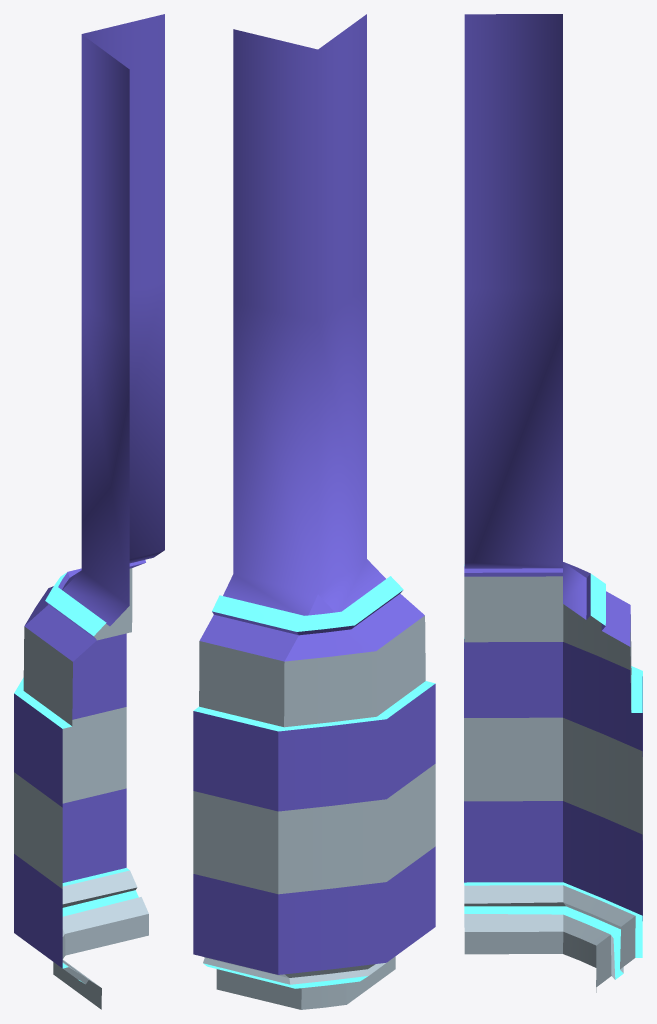
Rendered from 45_CornerWall_A_Tall.fbx.
The picture shows the model from 3 angles, left to right: view 1: azimuth 30°, elevation 25°; view 2: azimuth 150°, elevation 25°; view 3: azimuth 270°, elevation 25°; orthographic projection. The views are drawn at different scales.
Parts seen in each view (by area): view 1: 45_CornerWall_A; view 2: 45_CornerWall_A; view 3: 45_CornerWall_A.
Part boxes in pixels (bbox=[...]): 45_CornerWall_A: bbox=[14, 14, 164, 1009]; 45_CornerWall_A: bbox=[193, 14, 435, 1009]; 45_CornerWall_A: bbox=[464, 14, 642, 992].
Bounding box in the file's own units: 275 × 1622 × 275.
